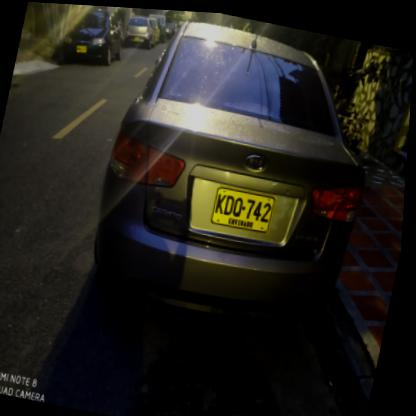placa: (207, 177, 281, 234)
